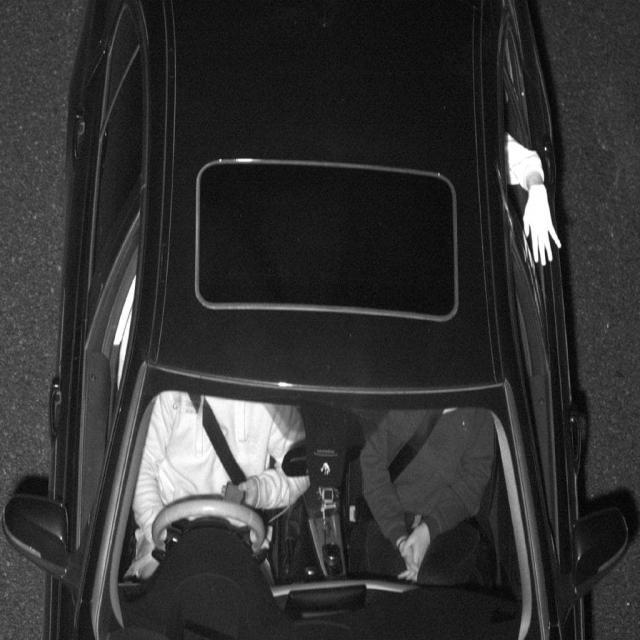seatbelt: (350, 408, 446, 515), (189, 387, 262, 505)
